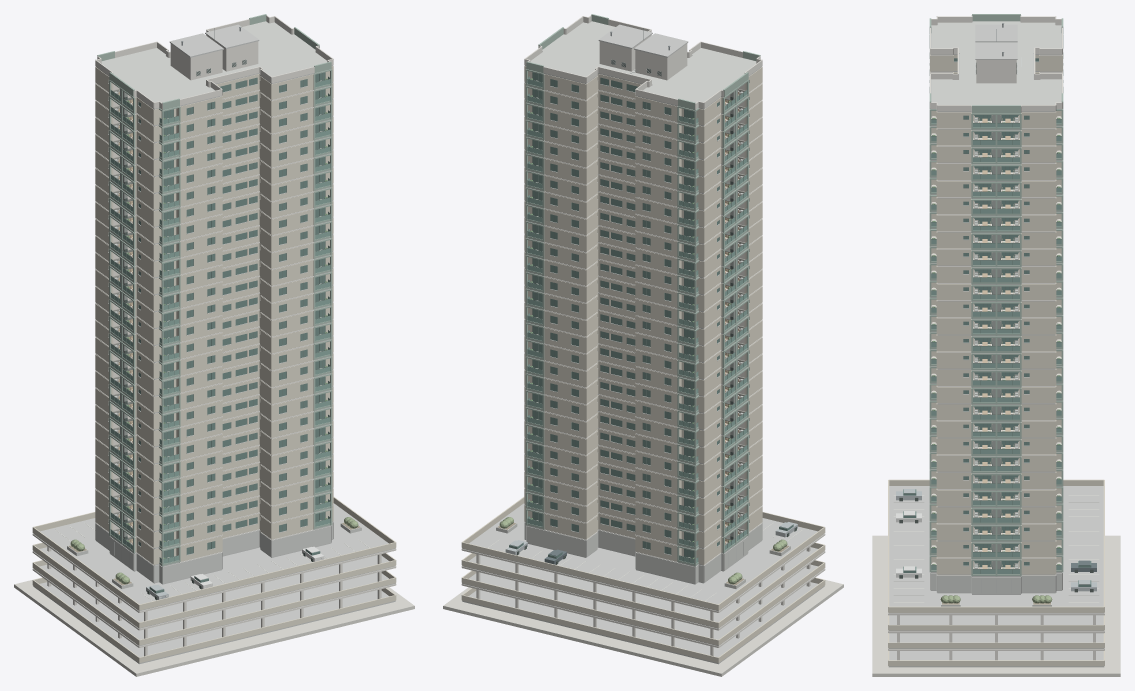
The model's file is Grupo_11_Torre_Detalhada.glb.
The picture shows the model from 3 angles, left to right: view 1: azimuth 30°, elevation 25°; view 2: azimuth 150°, elevation 25°; view 3: azimuth 270°, elevation 25°; orthographic projection.
Parts seen in each view (by area): view 1: Embasamento/Base/Garagem/Lajes__Concreto_novo, Embasamento/Base/Garagem/Faixas__Fachada_bege, Cobertura/Cobertura/Impermeabilizacao__Fachada_cinza_clara, Embasamento/Base/Terreno__Porcelanato, Embasamento/Terreo/Fechamento__Fachada_cinza_clara, Embasamento/Base/Terraco/Guarda_corpo__Fachada_bege, Embasamento/Base/Garagem/Faixas__Fachada_branca, Cobertura/Cobertura/Platibandas__Fachada_branca, Cobertura/Cobertura/Casas_tecnicas__Fachada_branca, Cobertura/Cobertura/Capas__Concreto_novo, Pavimento_27/Apartamento_2704/Arquitetura/Fachadas__Fachada_, Pavimento_18/Apartamento_1804/Arquitetura/Fachadas__Fachada_ (+54 smaller); view 2: Embasamento/Base/Garagem/Lajes__Concreto_novo, Embasamento/Base/Garagem/Faixas__Fachada_bege, Cobertura/Cobertura/Impermeabilizacao__Fachada_cinza_clara, Embasamento/Base/Terreno__Porcelanato, Embasamento/Terreo/Fechamento__Fachada_cinza_clara, Embasamento/Base/Terraco/Guarda_corpo__Fachada_bege, Embasamento/Base/Garagem/Faixas__Fachada_branca, Cobertura/Cobertura/Platibandas__Fachada_branca, Cobertura/Cobertura/Casas_tecnicas__Fachada_branca, Cobertura/Cobertura/Capas__Concreto_novo, Pavimento_27/Apartamento_2701/Arquitetura/Fachadas__Fachada_, Pavimento_18/Apartamento_1801/Arquitetura/Fachadas__Fachada_ (+54 smaller); view 3: Embasamento/Base/Garagem/Lajes__Concreto_novo, Cobertura/Cobertura/Impermeabilizacao__Fachada_cinza_clara, Embasamento/Base/Terreno__Porcelanato, Embasamento/Base/Garagem/Faixas__Fachada_bege, Embasamento/Base/Terraco/Guarda_corpo__Fachada_bege, Embasamento/Terreo/Fechamento__Fachada_cinza_clara, Cobertura/Cobertura/Platibandas__Fachada_branca, Embasamento/Base/Garagem/Faixas__Fachada_branca, Cobertura/Cobertura/Capas__Concreto_novo, Cobertura/Cobertura/Coroamento_verde__Faixa_verde, Cobertura/Cobertura/Casas_tecnicas__Fachada_branca, Pavimento_03/Apartamento_0302/Arquitetura/Fachadas__Fachada_ (+58 smaller).
Boxes of the visible parts, bbox=[...] form: Embasamento/Base/Garagem/Lajes__Concreto_novo: bbox=[33, 503, 395, 664]; Embasamento/Base/Garagem/Faixas__Fachada_bege: bbox=[32, 542, 396, 662]; Cobertura/Cobertura/Impermeabilizacao__Fachada_cinza_clara: bbox=[101, 21, 327, 102]; Embasamento/Base/Terreno__Porcelanato: bbox=[14, 580, 414, 676]; Embasamento/Terreo/Fechamento__Fachada_cinza_clara: bbox=[95, 522, 333, 583]; Embasamento/Base/Terraco/Guarda_corpo__Fachada_bege: bbox=[32, 497, 396, 610]; Embasamento/Base/Garagem/Faixas__Fachada_branca: bbox=[32, 533, 396, 647]; Cobertura/Cobertura/Platibandas__Fachada_branca: bbox=[95, 15, 333, 109]; Cobertura/Cobertura/Casas_tecnicas__Fachada_branca: bbox=[170, 35, 258, 80]; Cobertura/Cobertura/Capas__Concreto_novo: bbox=[169, 24, 259, 57]; Pavimento_27/Apartamento_2704/Arquitetura/Fachadas__Fachada_: bbox=[134, 80, 233, 125]; Pavimento_18/Apartamento_1804/Arquitetura/Fachadas__Fachada_: bbox=[135, 232, 233, 277]; Embasamento/Base/Garagem/Lajes__Concreto_novo: bbox=[462, 503, 824, 664]; Embasamento/Base/Garagem/Faixas__Fachada_bege: bbox=[461, 542, 825, 662]; Cobertura/Cobertura/Impermeabilizacao__Fachada_cinza_clara: bbox=[530, 21, 756, 102]; Embasamento/Base/Terreno__Porcelanato: bbox=[443, 580, 843, 676]; Embasamento/Terreo/Fechamento__Fachada_cinza_clara: bbox=[524, 522, 762, 583]; Embasamento/Base/Terraco/Guarda_corpo__Fachada_bege: bbox=[461, 497, 825, 610]; Embasamento/Base/Garagem/Faixas__Fachada_branca: bbox=[461, 533, 825, 647]; Cobertura/Cobertura/Platibandas__Fachada_branca: bbox=[524, 15, 762, 109]; Cobertura/Cobertura/Casas_tecnicas__Fachada_branca: bbox=[599, 35, 687, 80]; Cobertura/Cobertura/Capas__Concreto_novo: bbox=[598, 24, 688, 57]; Pavimento_27/Apartamento_2701/Arquitetura/Fachadas__Fachada_: bbox=[624, 80, 723, 125]; Pavimento_18/Apartamento_1801/Arquitetura/Fachadas__Fachada_: bbox=[624, 232, 722, 277]; Embasamento/Base/Garagem/Lajes__Concreto_novo: bbox=[888, 486, 1104, 667]; Cobertura/Cobertura/Impermeabilizacao__Fachada_cinza_clara: bbox=[931, 21, 1061, 105]; Embasamento/Base/Terreno__Porcelanato: bbox=[872, 535, 1120, 676]; Embasamento/Base/Garagem/Faixas__Fachada_bege: bbox=[888, 615, 1104, 666]; Embasamento/Base/Terraco/Guarda_corpo__Fachada_bege: bbox=[888, 479, 1104, 612]; Embasamento/Terreo/Fechamento__Fachada_cinza_clara: bbox=[930, 572, 1062, 593]; Cobertura/Cobertura/Platibandas__Fachada_branca: bbox=[930, 15, 1062, 112]; Embasamento/Base/Garagem/Faixas__Fachada_branca: bbox=[888, 612, 1104, 650]; Cobertura/Cobertura/Capas__Concreto_novo: bbox=[975, 24, 1017, 59]; Cobertura/Cobertura/Coroamento_verde__Faixa_verde: bbox=[929, 14, 1063, 113]; Cobertura/Cobertura/Casas_tecnicas__Fachada_branca: bbox=[976, 60, 1016, 83]; Pavimento_03/Apartamento_0302/Arquitetura/Fachadas__Fachada_: bbox=[1021, 522, 1061, 540].
Bounding box in the file's own units: 50 × 97.82 × 38.
